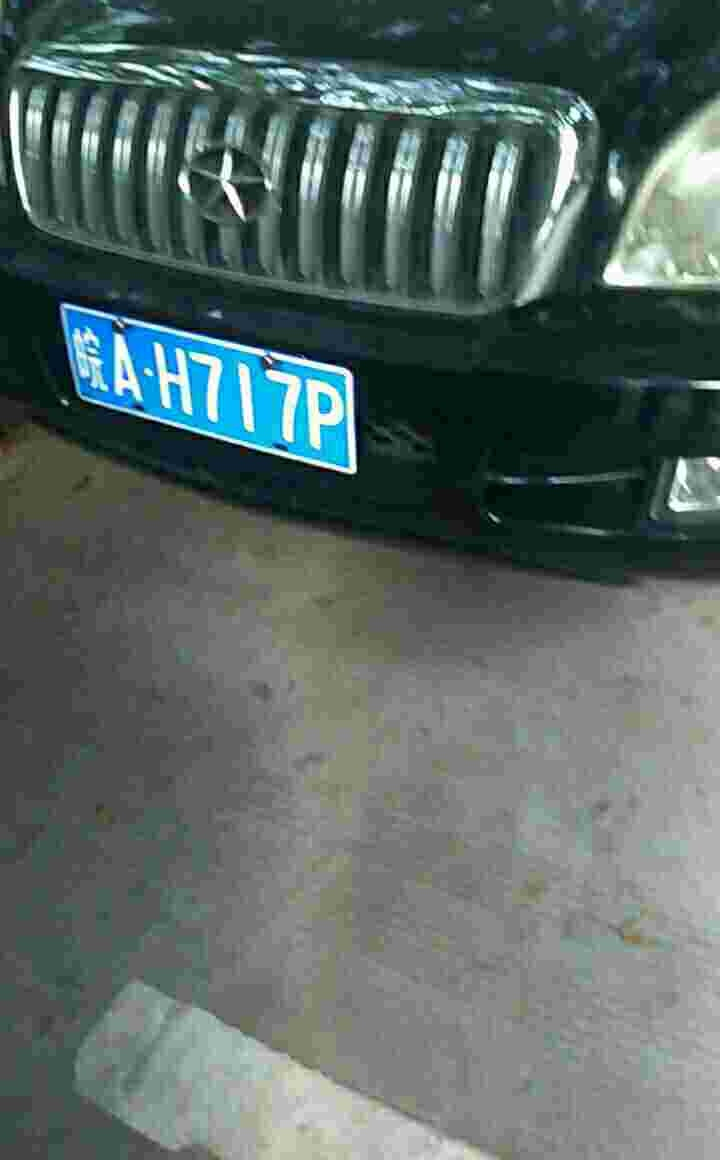license_plate: (65, 307, 355, 467)
